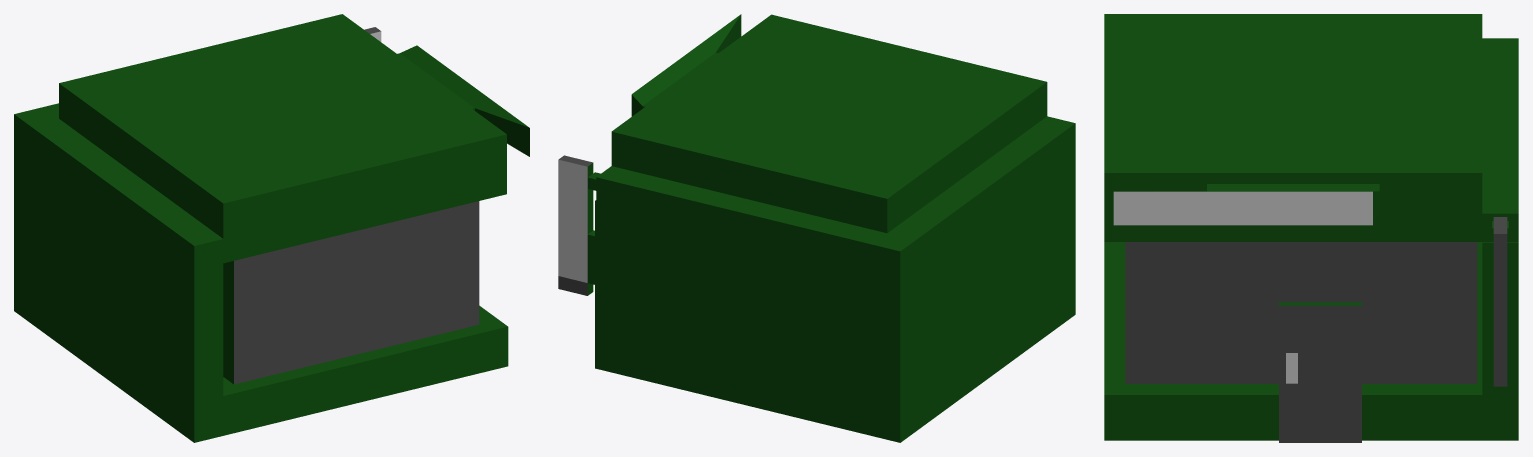
The model's file is Cafe.fbx.
3 renders of one model, left to right at view 1: azimuth 30°, elevation 25°; view 2: azimuth 150°, elevation 25°; view 3: azimuth 270°, elevation 25°, orthographic. The views are drawn at different scales.
Visible parts, largest first — view 1: Cube; view 2: Cube; view 3: Cube.
Boxes of the visible parts, x1=… form: Cube: x1=14, y1=14, x2=529, y2=442; Cube: x1=558, y1=14, x2=1075, y2=442; Cube: x1=1104, y1=14, x2=1518, y2=442.
Size of the model in its own units: 496 by 309 by 435.
